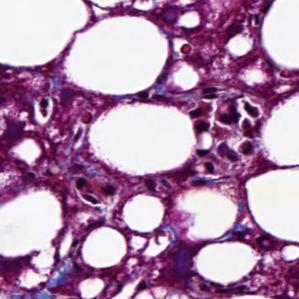inflammation: (186, 84, 266, 180), (67, 173, 124, 217), (29, 97, 56, 125)
